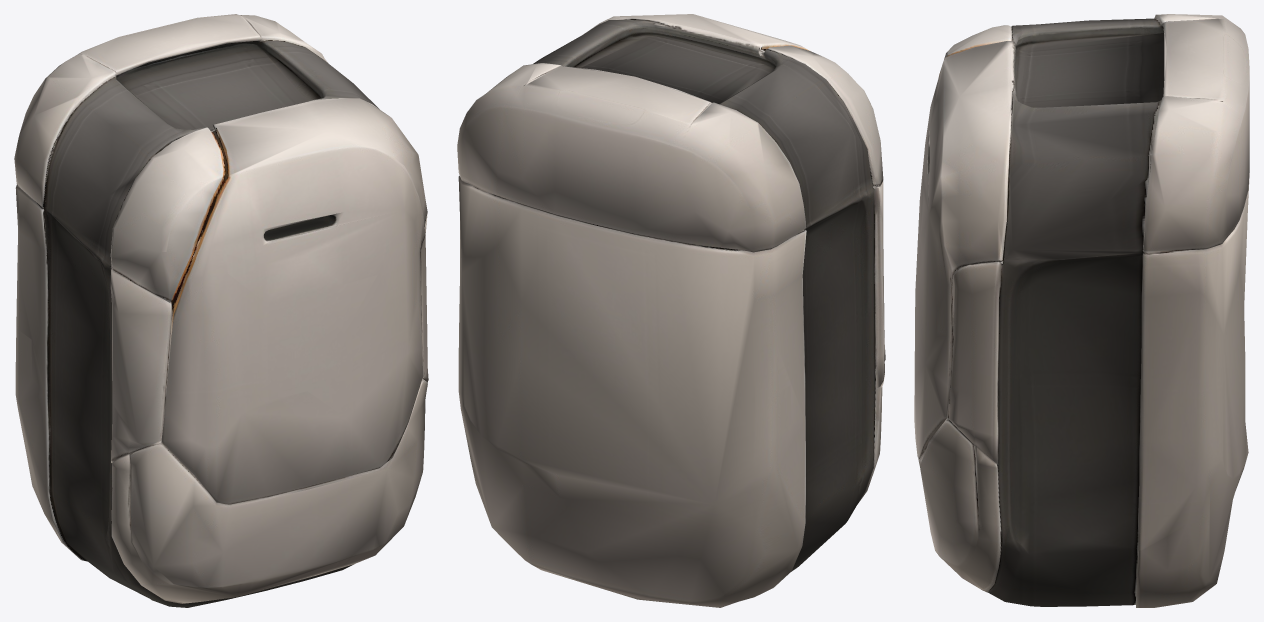
The picture shows the model from 3 angles, left to right: view 1: azimuth 30°, elevation 25°; view 2: azimuth 150°, elevation 25°; view 3: azimuth 270°, elevation 25°; orthographic projection. The views are drawn at different scales.
Parts seen in each view (by area): view 1: SM_BP01_01_LOD1; view 2: SM_BP01_01_LOD1; view 3: SM_BP01_01_LOD1.
Part boxes in pixels (x1=…): SM_BP01_01_LOD1: x1=14, y1=14, x2=428, y2=607; SM_BP01_01_LOD1: x1=457, y1=14, x2=885, y2=607; SM_BP01_01_LOD1: x1=914, y1=14, x2=1249, y2=607.
Bounding box in the file's own units: 0.6647 × 0.992 × 0.5881.
Materials: 1 (1 with a texture image).
